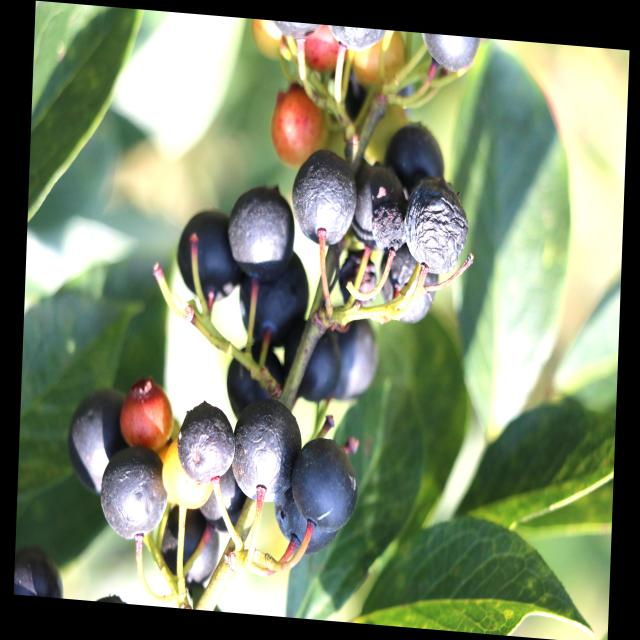blueberry: (225, 177, 294, 292), (230, 398, 300, 504), (66, 389, 133, 499), (238, 255, 310, 349), (293, 435, 360, 532), (176, 207, 240, 308), (97, 452, 165, 542), (405, 180, 467, 274), (291, 152, 352, 246), (273, 478, 340, 556), (156, 514, 218, 588), (330, 317, 380, 408), (178, 408, 236, 481), (290, 326, 339, 412), (387, 122, 444, 194), (351, 165, 401, 247), (384, 248, 432, 330), (198, 462, 251, 534), (229, 349, 284, 418), (14, 543, 70, 598), (420, 33, 478, 75), (338, 256, 376, 309), (374, 201, 411, 249), (333, 25, 381, 58)
blueberry-halfripe: (270, 86, 330, 173), (122, 378, 176, 457)
